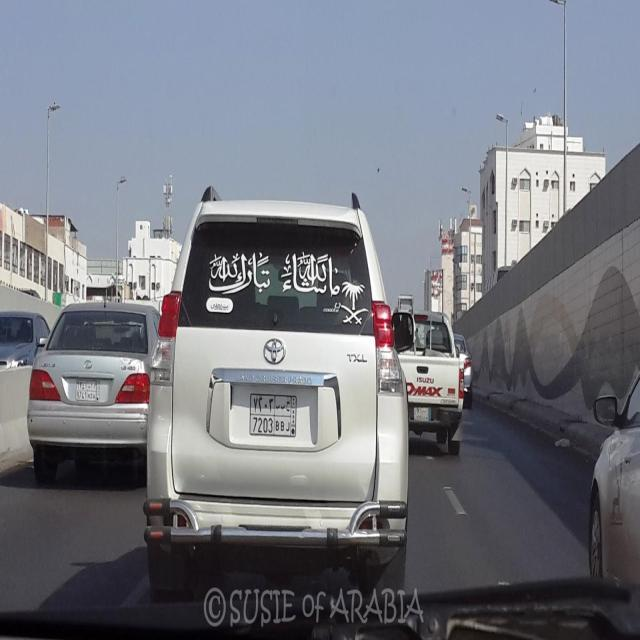license_plate: (245, 388, 300, 440), (72, 372, 106, 405), (409, 401, 431, 427)
